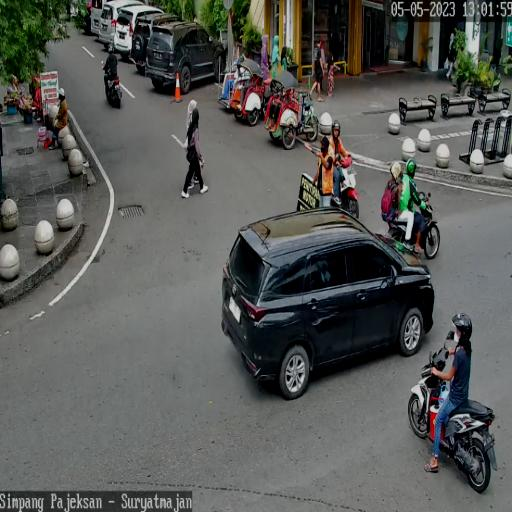mobil: (222, 209, 434, 399), (146, 23, 228, 92), (132, 15, 185, 73), (116, 6, 164, 64)
motor: (408, 330, 500, 492), (380, 182, 440, 260), (334, 151, 363, 220), (101, 54, 122, 109)
